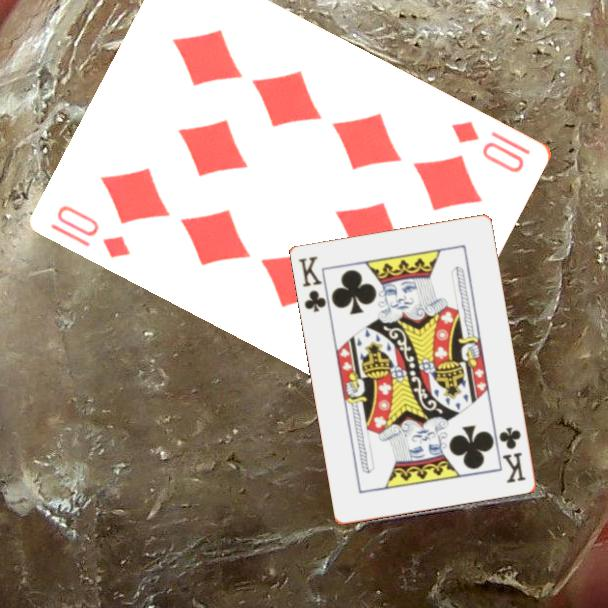c13: (295, 253, 329, 315), (496, 424, 529, 486)
d10: (47, 201, 134, 261), (448, 117, 528, 176)
